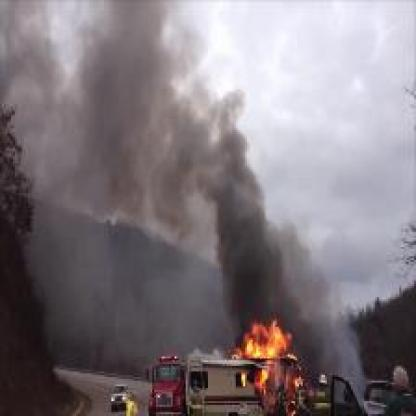fire: (218, 313, 300, 410)
smoke: (0, 0, 321, 309)
